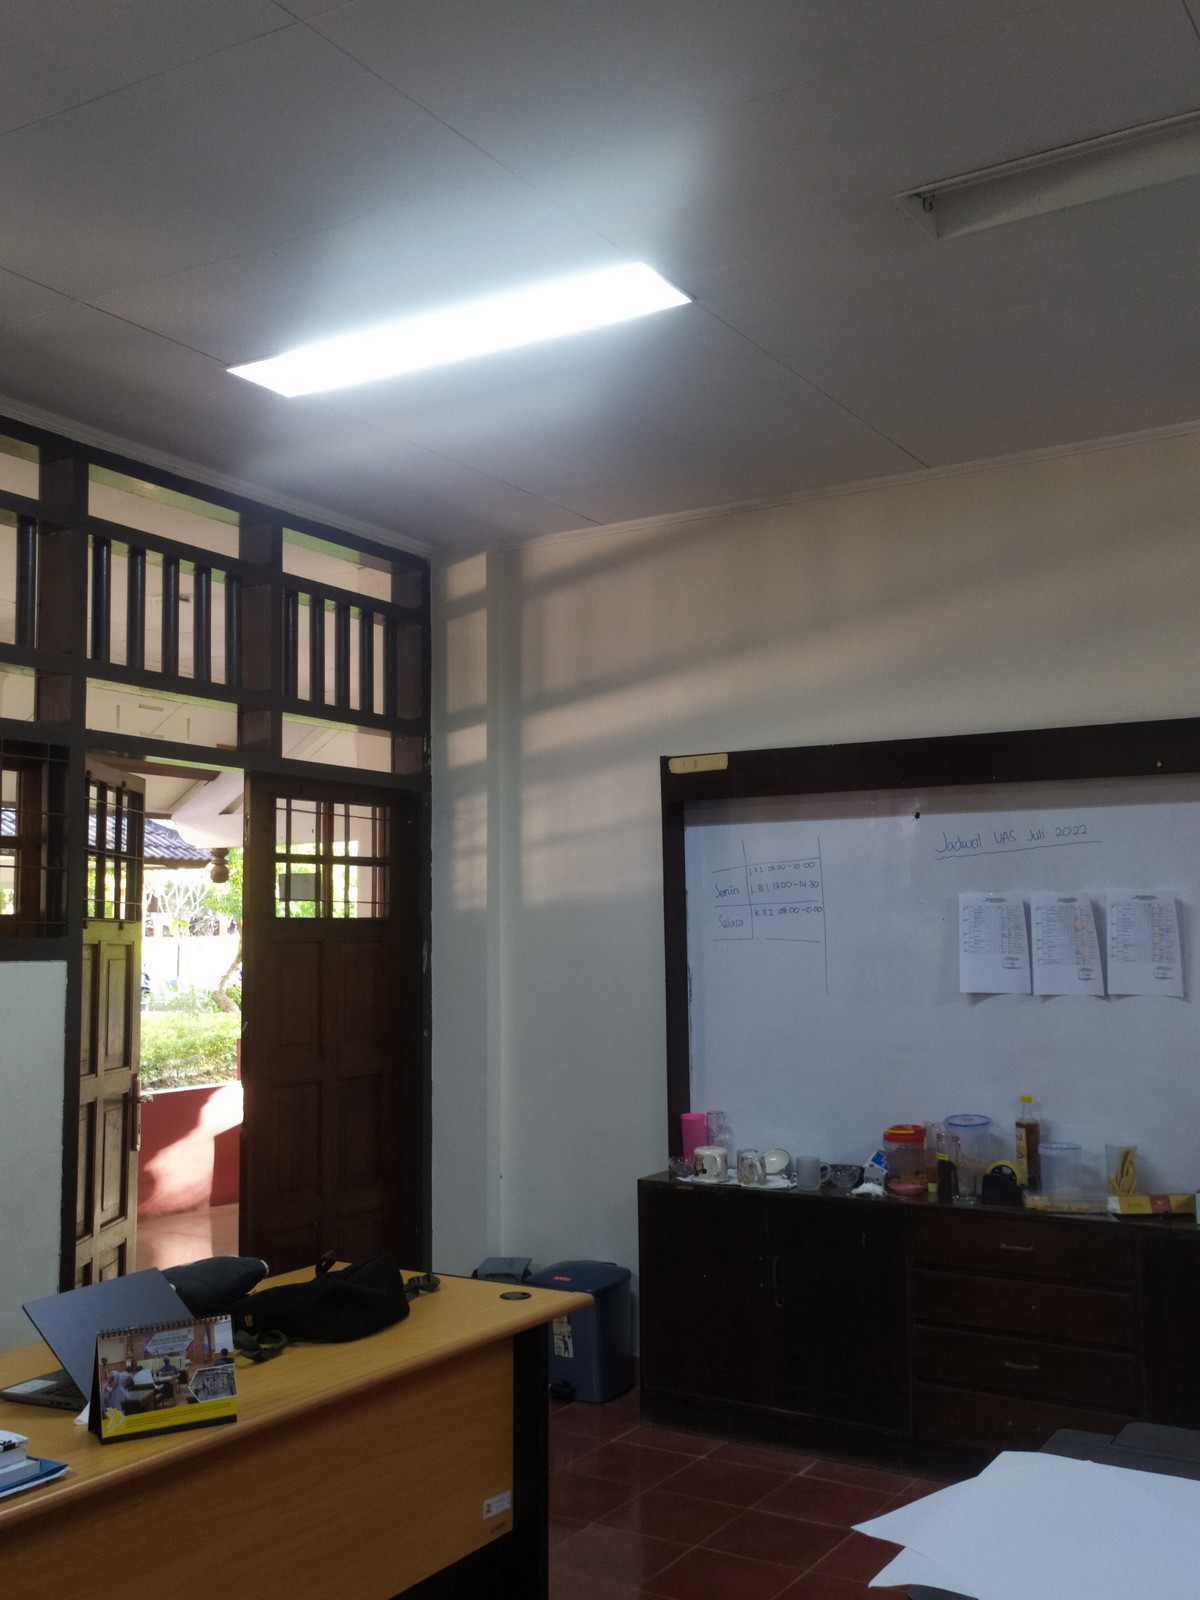concrete column: (420, 532, 529, 1275)
